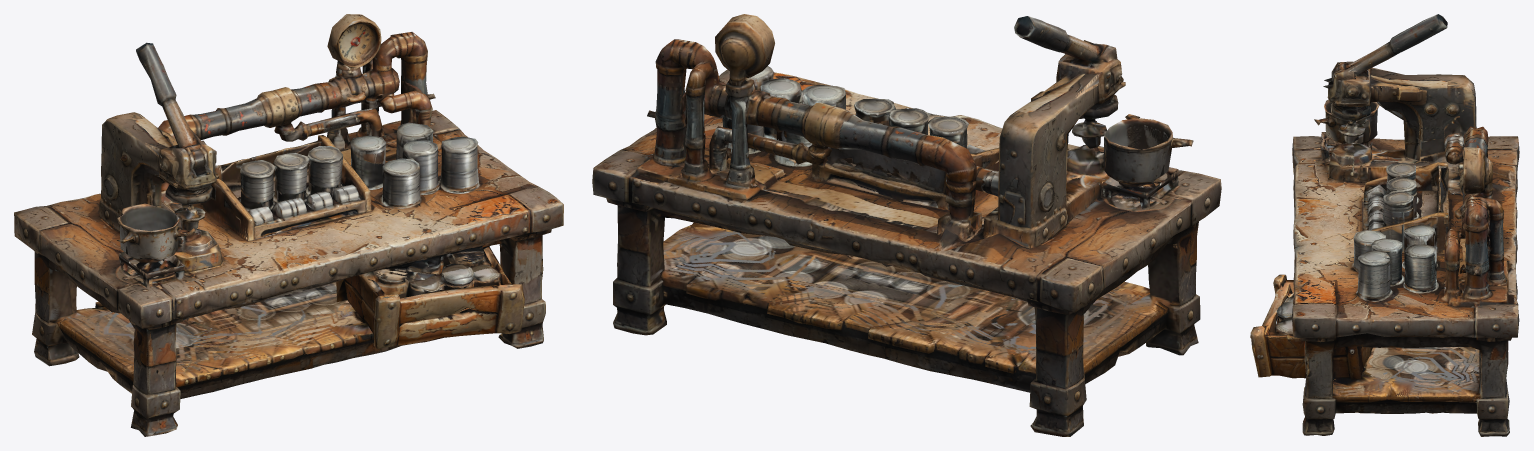
Rendered from Settle_Station_Canner.fbx.
3 views of the same model, side by side, from view 1: azimuth 30°, elevation 25°; view 2: azimuth 150°, elevation 25°; view 3: azimuth 270°, elevation 25° (orthographic). The views are drawn at different scales.
Visible parts, largest first — view 1: texture_mapping; view 2: texture_mapping; view 3: texture_mapping.
Boxes of the visible parts, x1,y1,x2,y2 form: texture_mapping: [14, 14, 563, 436]; texture_mapping: [592, 14, 1221, 436]; texture_mapping: [1250, 14, 1519, 436].
Size of the model in its own units: 0.9995 by 0.6241 by 0.7279.
1 material, 1 textured.
